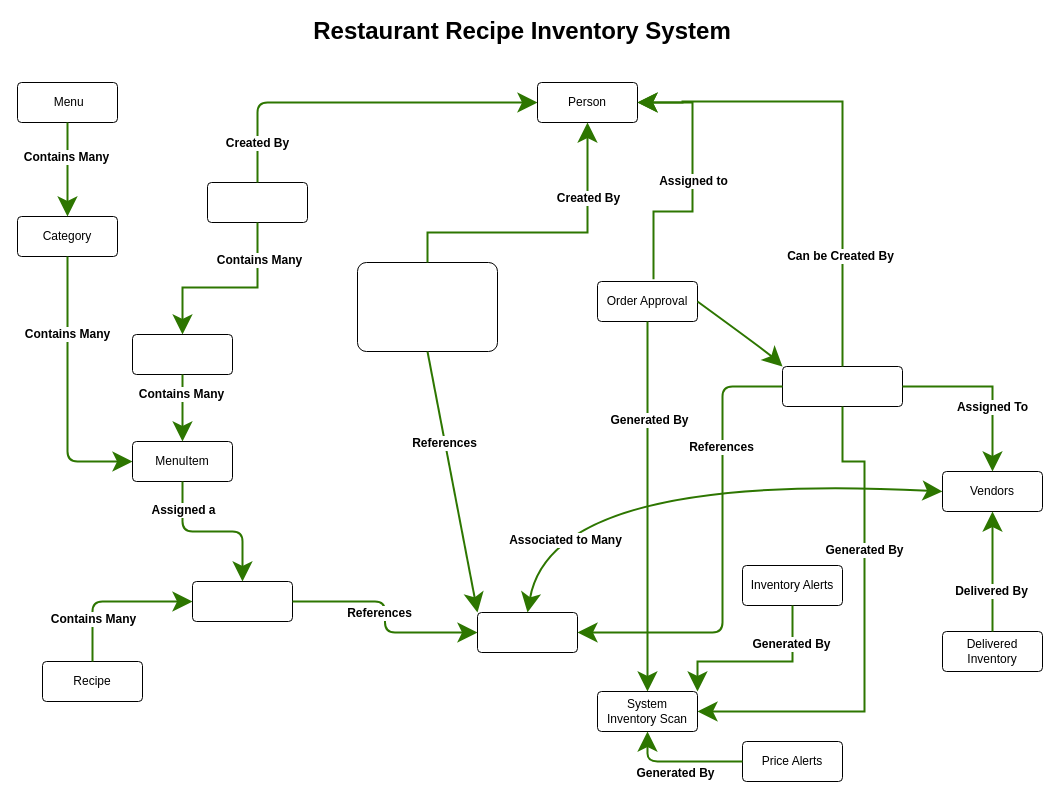
Some shapes in this 1060 by 799 pixel diagram are drawn without their labels. The centre of each missing label's shape, as x and y in pixels:
"(Inventory Check) Accidents Thefts Spoilage Stock Low" goes at (x=427, y=307).
"Food Item" goes at (x=242, y=601).
"Inventory Item" goes at (x=527, y=632).
"Inventory Order" goes at (x=842, y=386).
"Order" goes at (x=257, y=202).
"Order Item" goes at (x=182, y=354).
